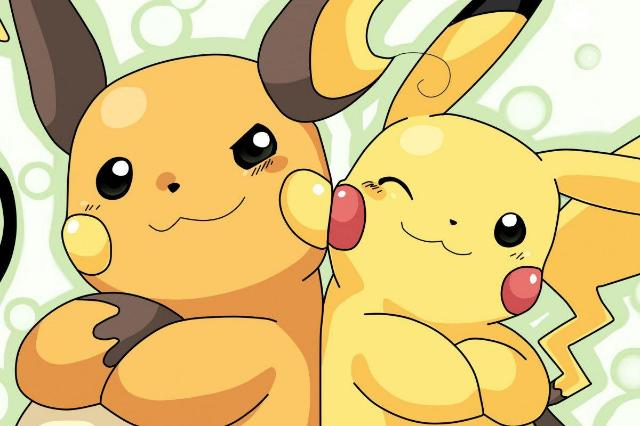pickachu: (329, 3, 639, 421)
